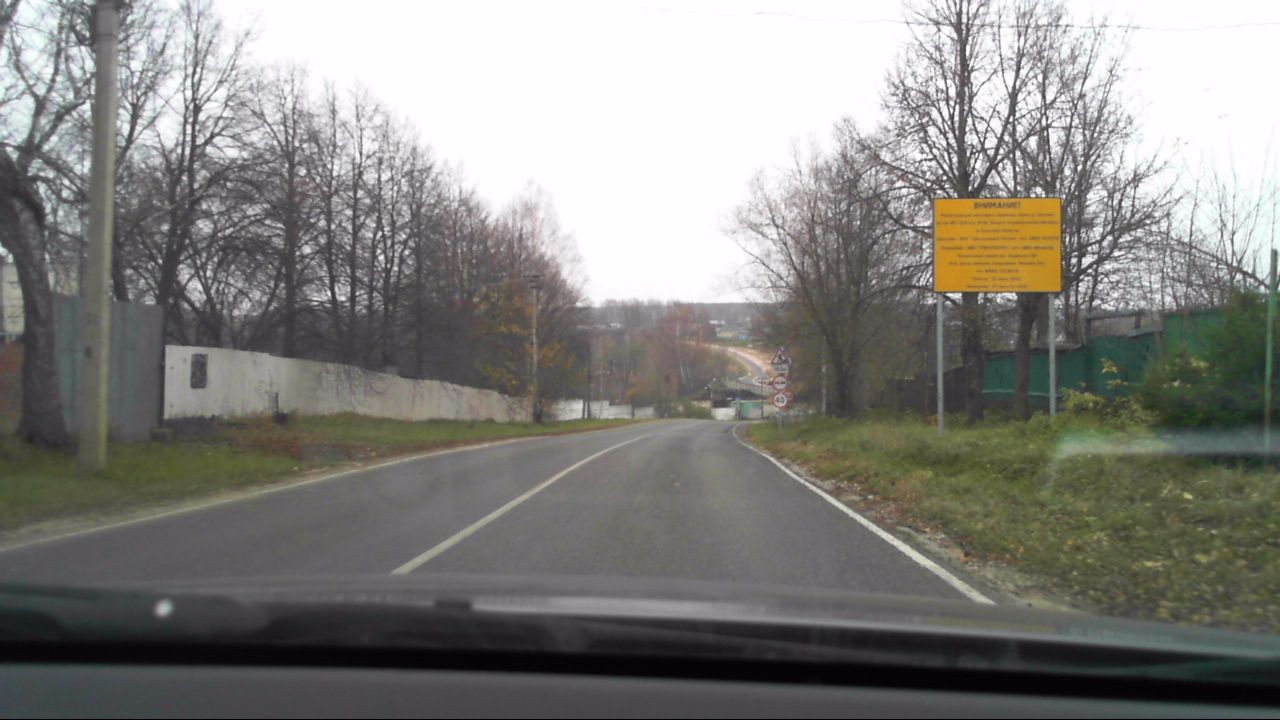speed_warning_40: (770, 390, 787, 408)
